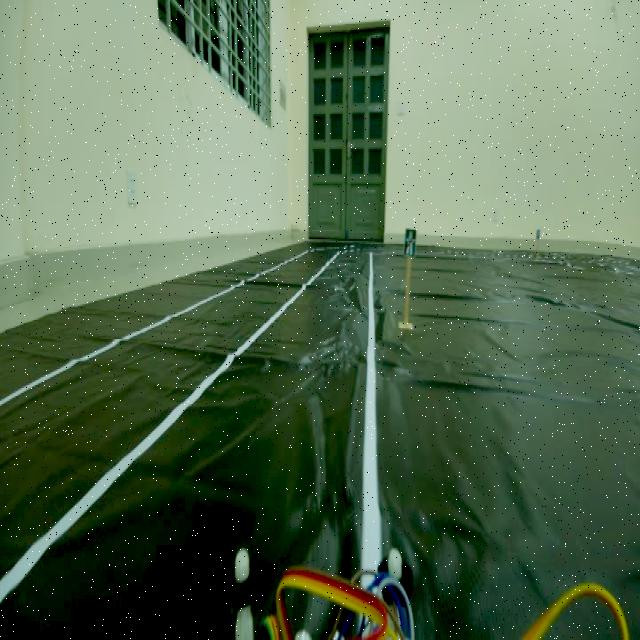highway_exit: (399, 226, 421, 271)
